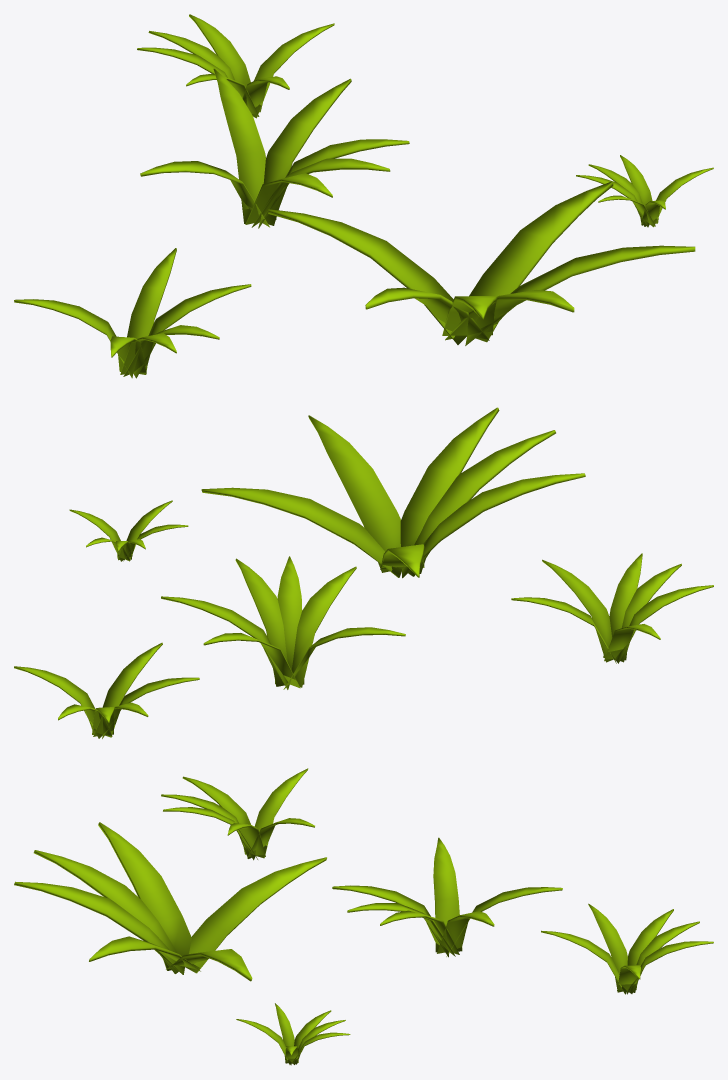
Rendered from Grass_02.fbx.
3 views of the same model, one above another, from view 1: azimuth 30°, elevation 25°; view 2: azimuth 150°, elevation 25°; view 3: azimuth 270°, elevation 25° (orthographic). The views are drawn at different scales.
Parts seen in each view (by area): view 1: Grass_02; view 2: Grass_02; view 3: Grass_02.
Boxes of the visible parts, left/top/right/bottom form: Grass_02: left=14, top=14, right=713, bottom=378; Grass_02: left=14, top=407, right=713, bottom=738; Grass_02: left=14, top=768, right=713, bottom=1065.
Size of the model in its own units: 211 by 31.96 by 236.
